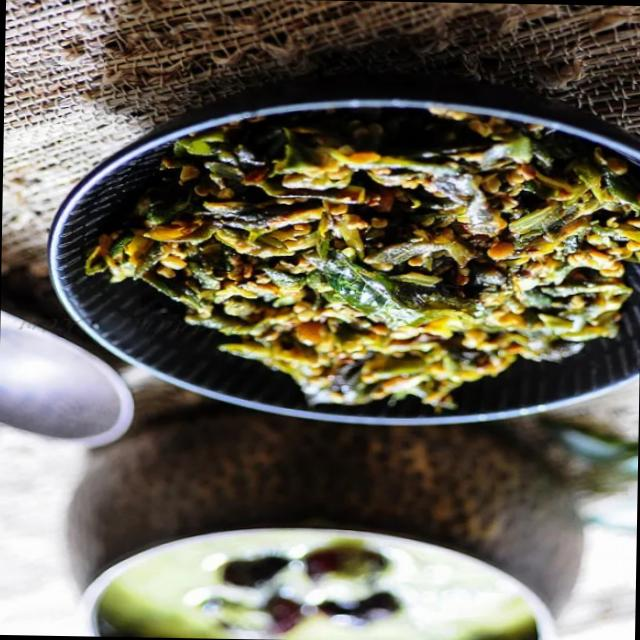BhindiMasala: (81, 100, 640, 413)
